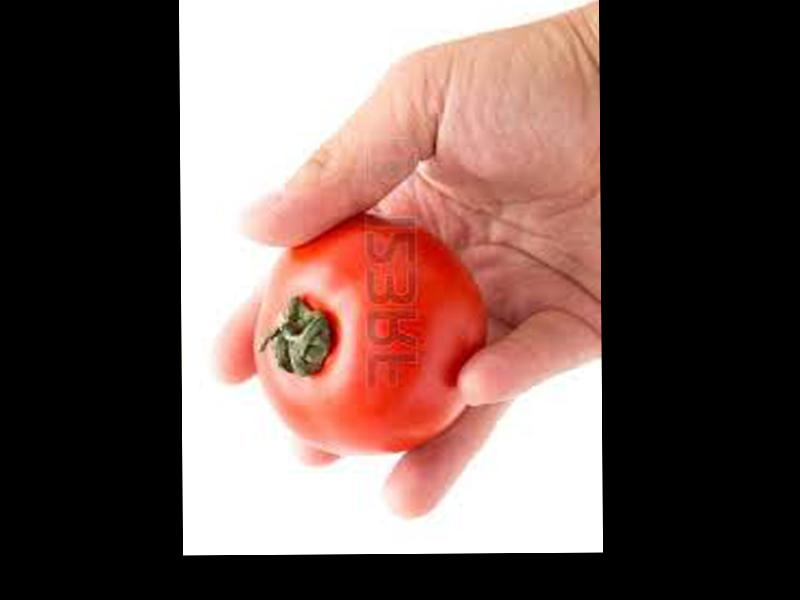Tomato: (253, 215, 486, 456)
